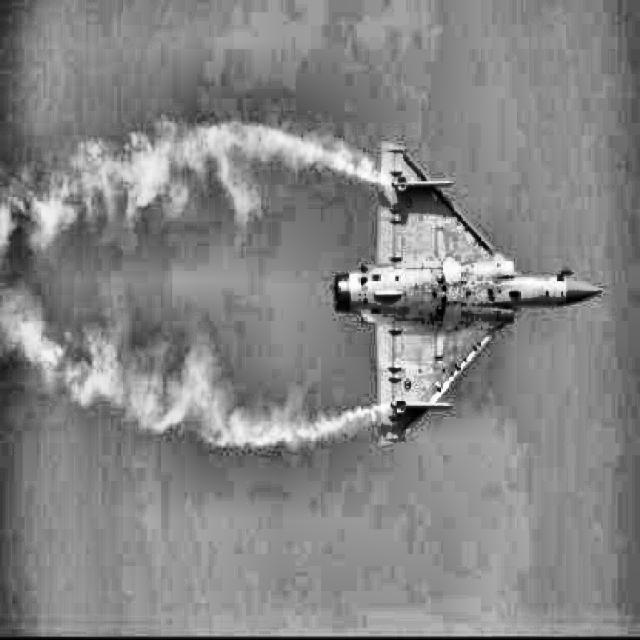Mirage2000: (329, 140, 603, 448)
